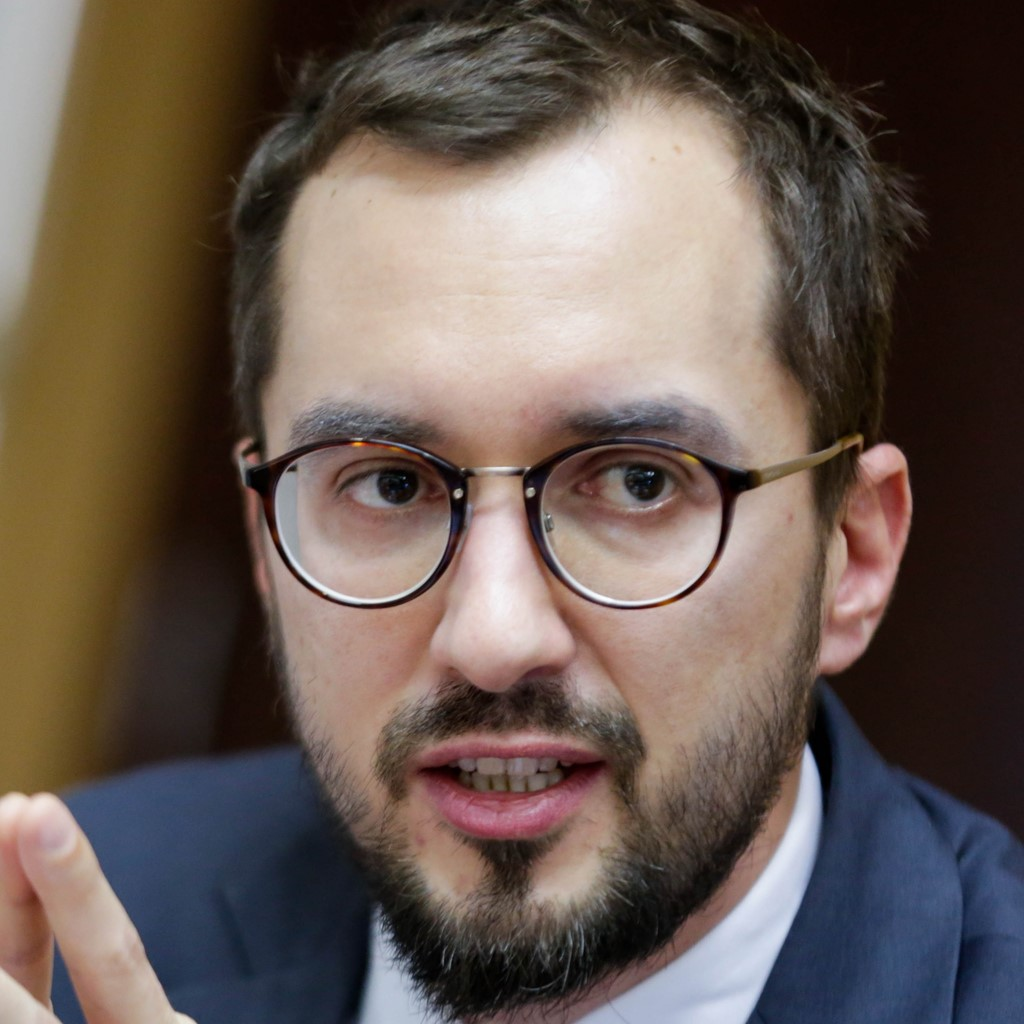sin_mascara: (220, 29, 910, 999)
